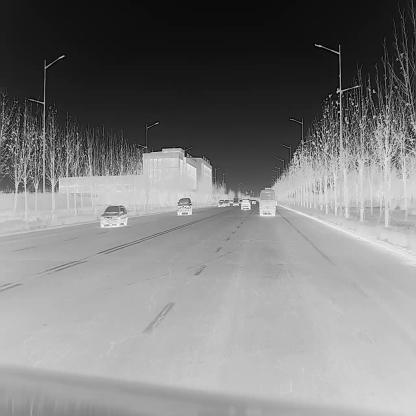car: (99, 205, 128, 229), (258, 186, 277, 216), (177, 197, 193, 215), (240, 198, 251, 210), (217, 198, 225, 207), (223, 199, 230, 206), (232, 198, 239, 205), (251, 198, 257, 205), (228, 199, 234, 204), (238, 199, 243, 204)
